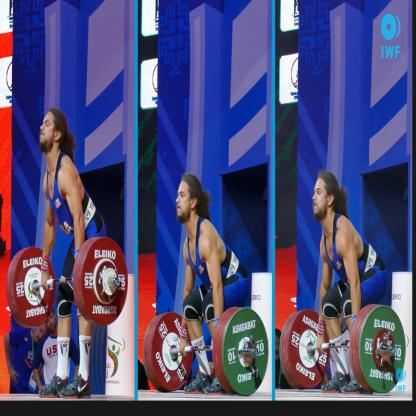Barbell: (70, 227, 128, 326), (356, 302, 408, 395), (220, 302, 268, 397)
